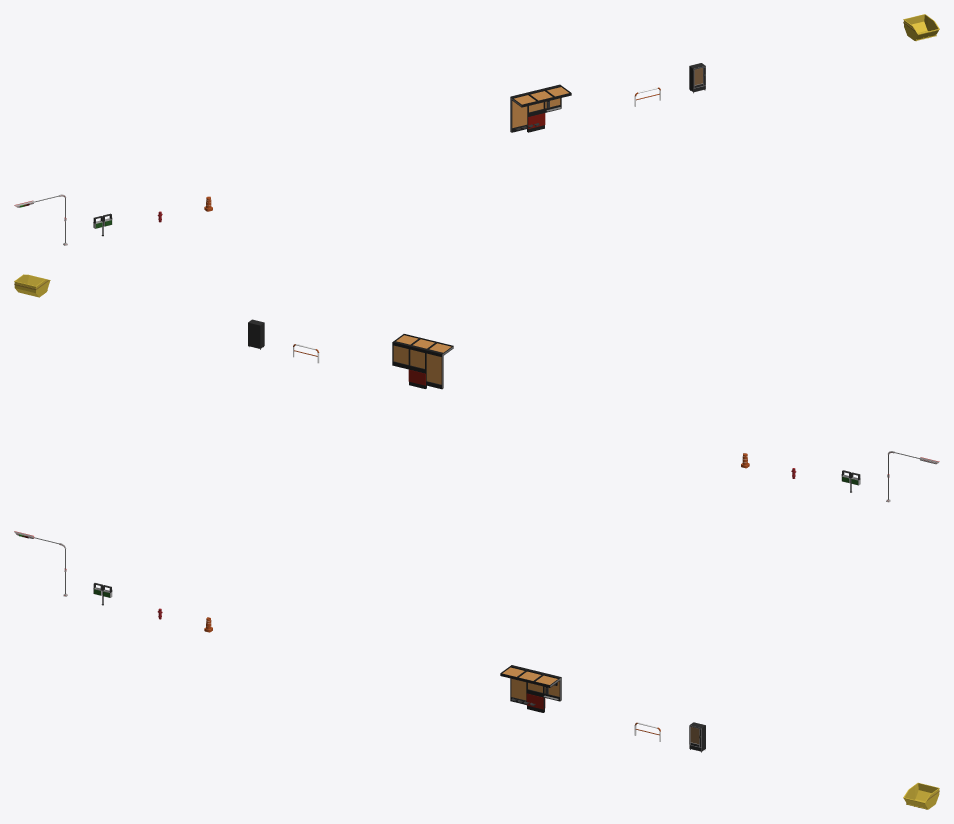
The model's file is CityStuff.fbx.
3 renders of one model, top to bottom at view 1: azimuth 30°, elevation 25°; view 2: azimuth 150°, elevation 25°; view 3: azimuth 330°, elevation 25°, orthographic.
Visible parts, largest first — view 1: BusStop, Dumpster; view 2: BusStop, Dumpster; view 3: BusStop, Dumpster.
Part boxes in pixels (<box>): BusStop: <box>510,84,571,132</box>; Dumpster: <box>903,14,939,41</box>; BusStop: <box>392,334,453,389</box>; Dumpster: <box>14,274,50,297</box>; BusStop: <box>500,665,561,712</box>; Dumpster: <box>903,782,939,809</box>.
Size of the model in its own units: 7385 by 405 by 253.
